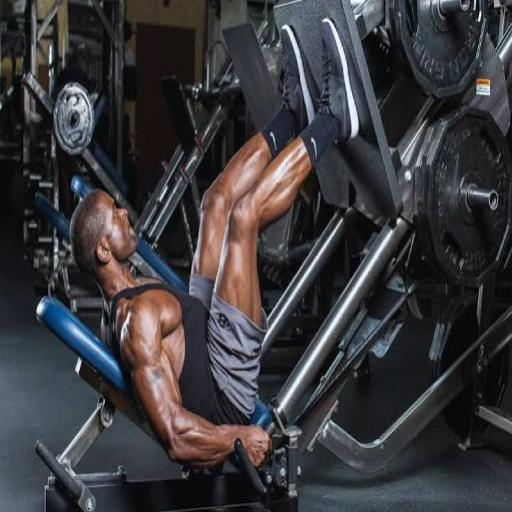Leg Press: (76, 12, 504, 466)
